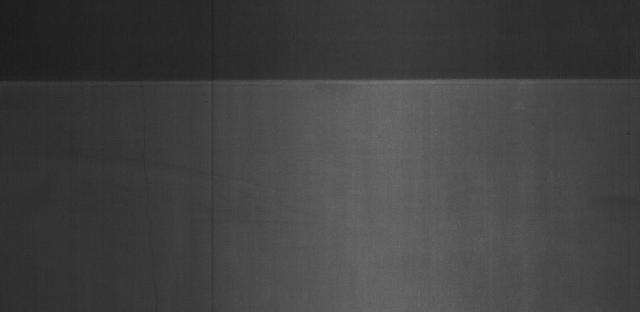welding_line: (5, 70, 640, 95)
